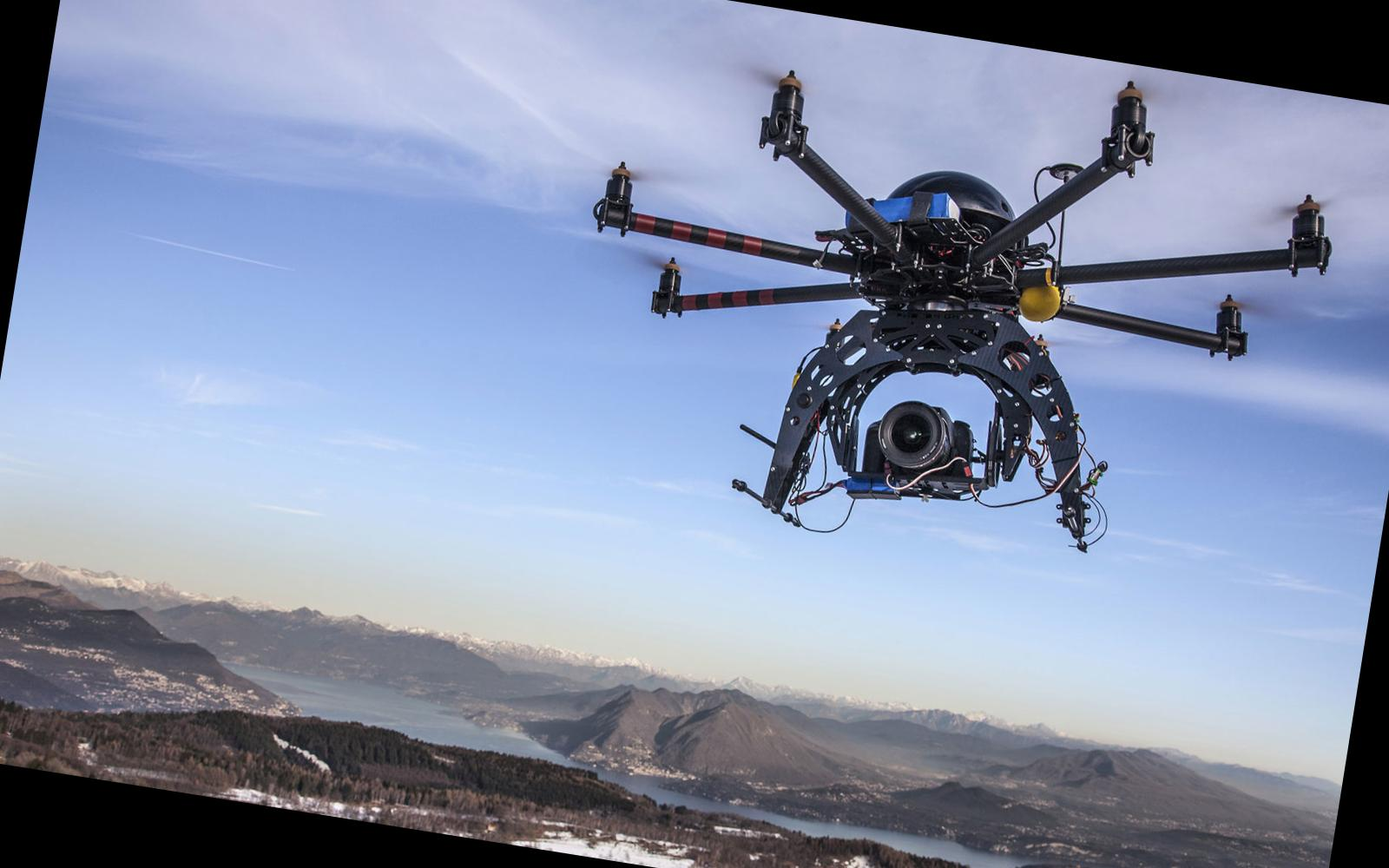drone: (518, 0, 1373, 488)
